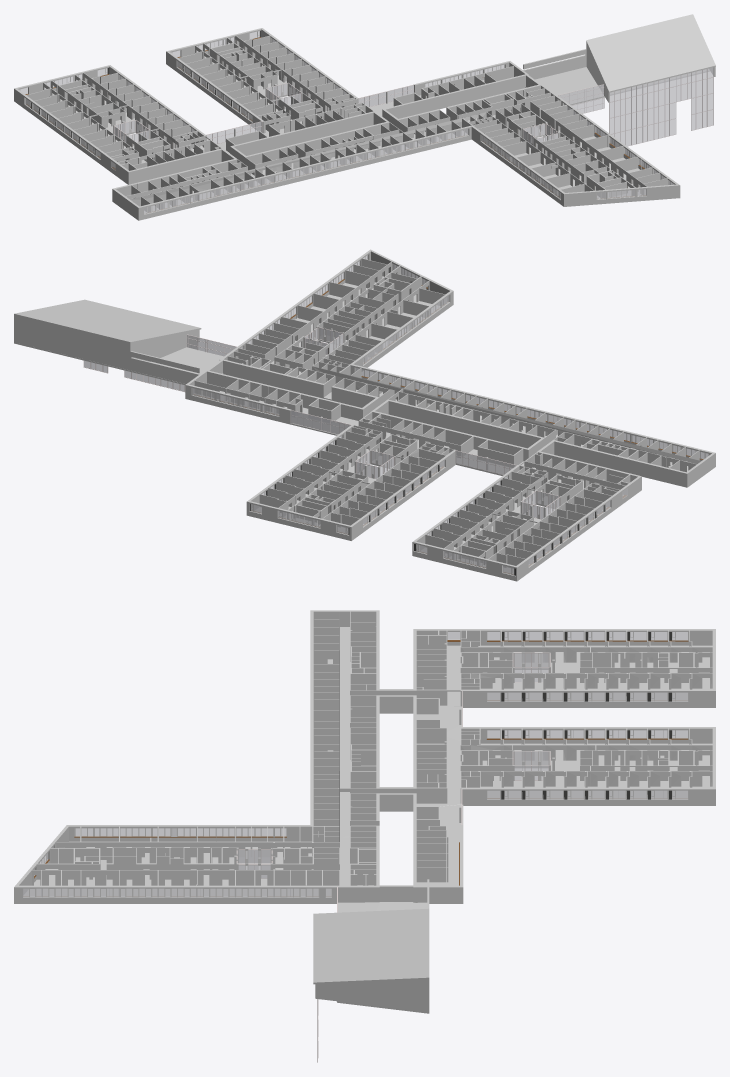
Rendered from Ebene 02_26.09.218.fbx.
The picture shows the model from 3 angles, top to bottom: view 1: azimuth 30°, elevation 25°; view 2: azimuth 150°, elevation 25°; view 3: azimuth 270°, elevation 25°; orthographic projection. The views are drawn at different scales.
Parts seen in each view (by area): view 1: Farbe, weiß, Glas Normalglas, Fensterrahmen, Metall Aluminium, matt, Metall, Fassade Edelstahl; view 2: Farbe, weiß, Glas Normalglas, Fensterrahmen, Metall Aluminium, matt, Metall, Fassade Edelstahl; view 3: Farbe, weiß, Glas Normalglas, Fensterrahmen, Holz Nussbaum, Metall Stahl, lackiert, Metall Aluminium, matt.
Part boxes in pixels (<box>): Farbe, weiß: <box>14,14,715,220</box>; Glas Normalglas: <box>19,31,713,213</box>; Fensterrahmen: <box>19,31,673,214</box>; Metall Aluminium, matt: <box>114,69,713,146</box>; Metall, Fassade Edelstahl: <box>44,40,638,197</box>; Farbe, weiß: <box>14,249,715,581</box>; Glas Normalglas: <box>84,255,708,574</box>; Fensterrahmen: <box>192,255,705,575</box>; Metall Aluminium, matt: <box>83,327,560,519</box>; Metall, Fassade Edelstahl: <box>219,267,686,564</box>; Farbe, weiß: <box>14,610,715,1013</box>; Glas Normalglas: <box>23,632,687,897</box>; Fensterrahmen: <box>23,632,688,897</box>; Holz Nussbaum: <box>34,640,688,885</box>; Metall Stahl, lackiert: <box>501,632,671,799</box>; Metall Aluminium, matt: <box>236,652,550,1062</box>.
Bounding box in the file's own units: 17743 × 13622 × 2118.
10 materials, 3 textured.
